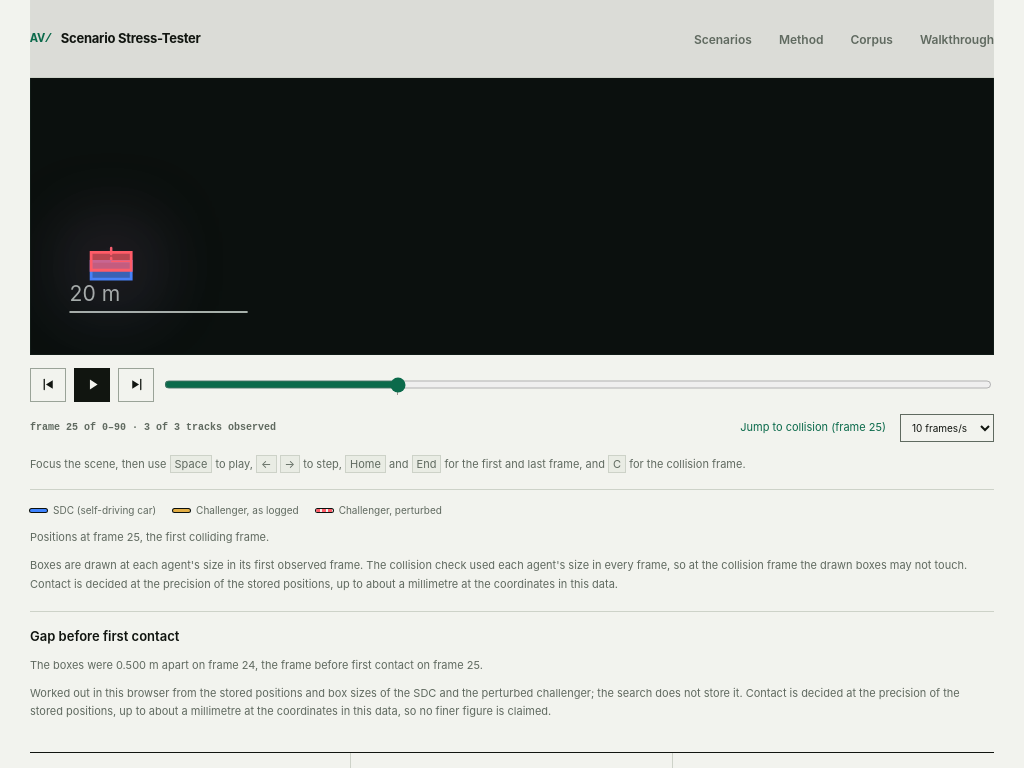
Test: where it is shown › is not tied to the frame on screen
(page scrolled)
Expected: the text "frame 25 of 0–90 · 3 of 3 tracks observed" is shown, left=30, top=420, right=276, bottom=435
Set the slider named "Frame" to "70": [804, 385] box left=164, top=372, right=992, bottom=397
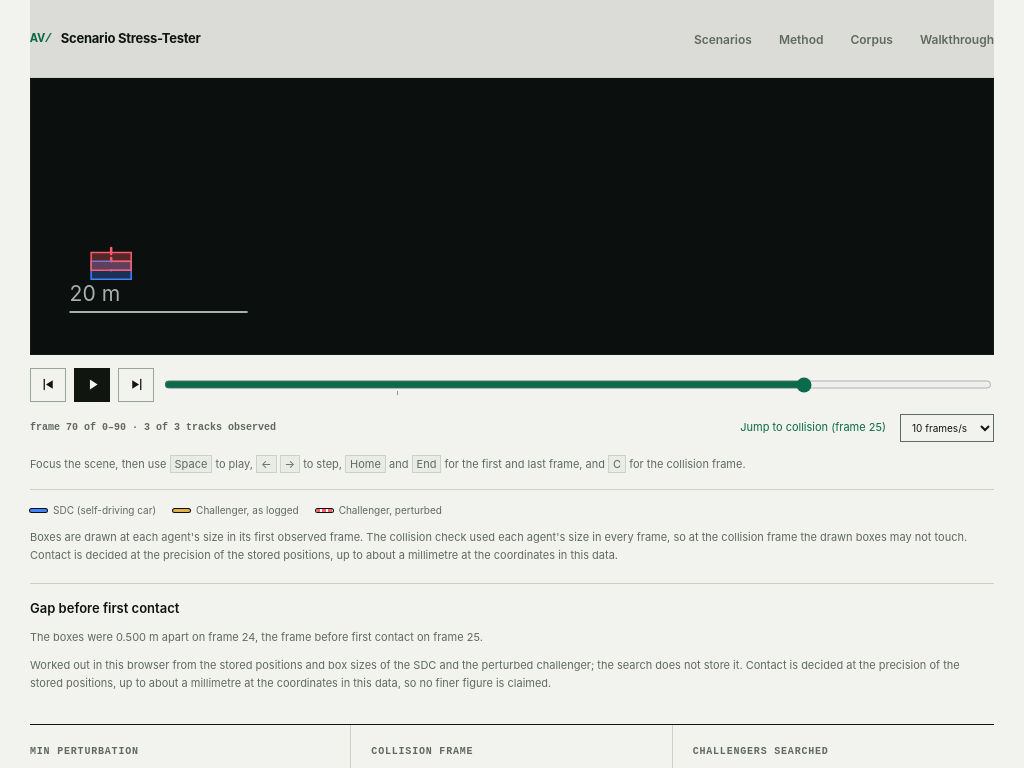
Now the text with test id "frame-readout" shows "frame 70", box left=30, top=422, right=126, bottom=433
